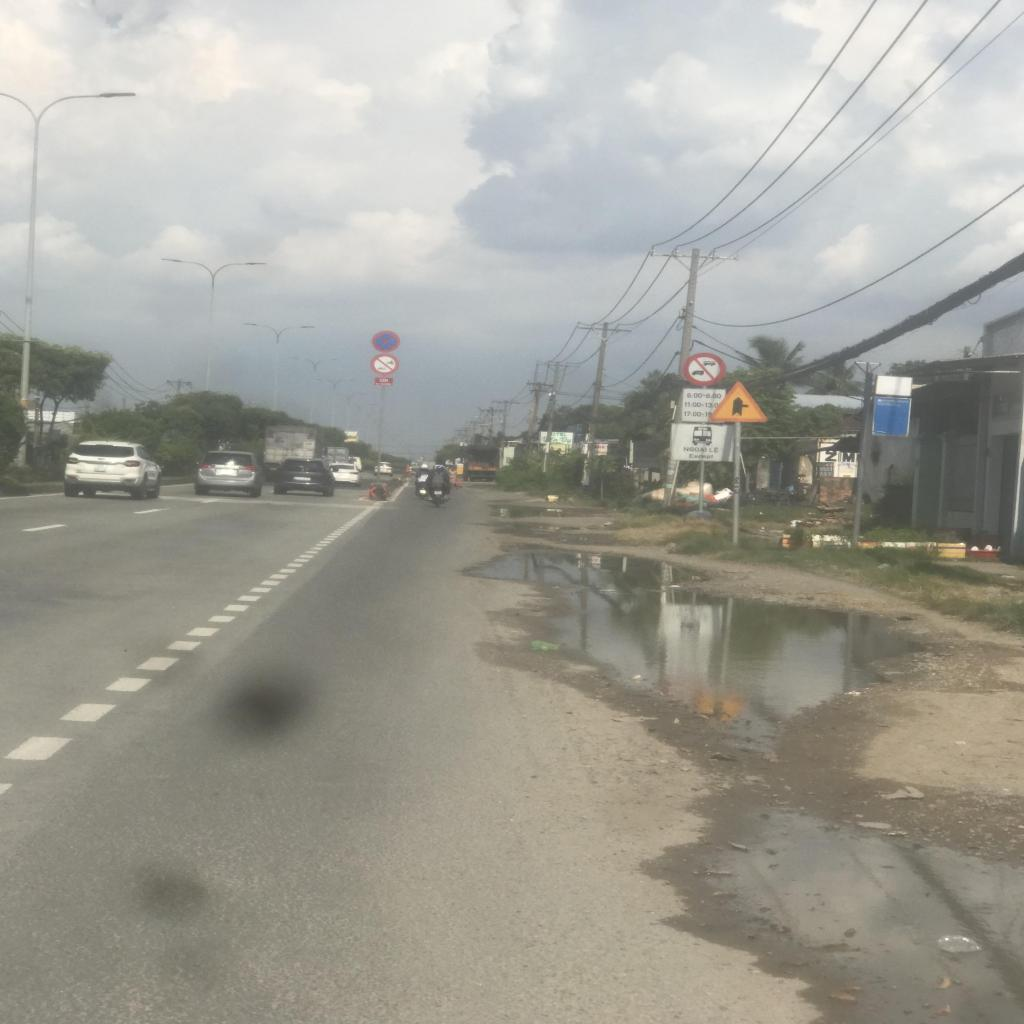cam_dung_xe_va_do_xe: (373, 330, 399, 352)
cam_o_to_tai_va_xe_khach: (682, 353, 726, 387)
cam_xe_2_banh_va_xe_3_banh_co_dong_co: (371, 354, 399, 376)
giao_nhau_voi_duong_khong_uu_tien: (707, 380, 770, 421)
khac: (669, 423, 735, 463), (681, 389, 726, 422)
